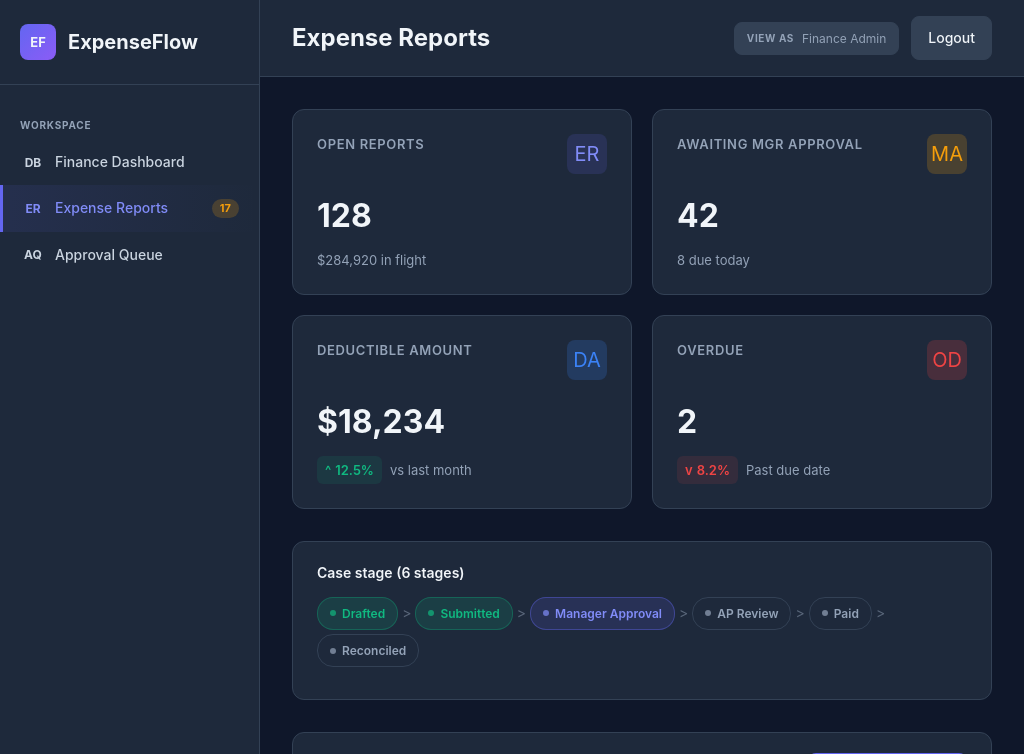
Test case: ExpenseFlow router › keeps the shared shell while navigating between routed screens
Expected: the heading "Expense Reports" is shown, 292,19 -> 490,57
Click the link "AQ Approval Queue": (93, 254) 24,246 -> 163,263
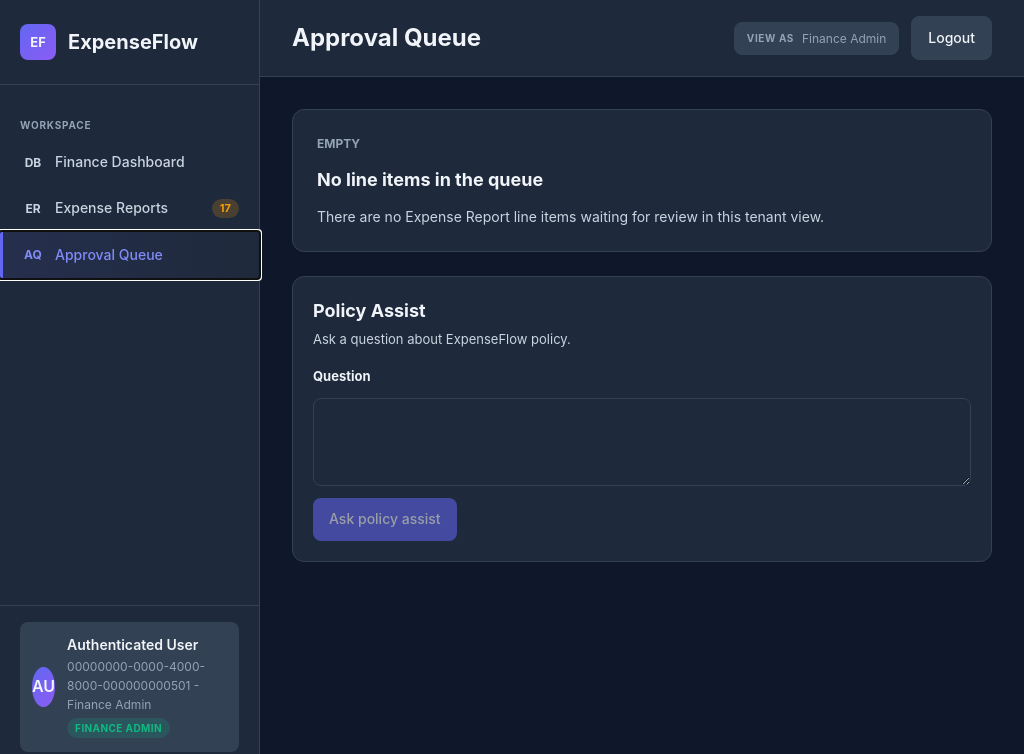
Now the heading "Approval Queue" is shown, box 292,19 -> 481,57
